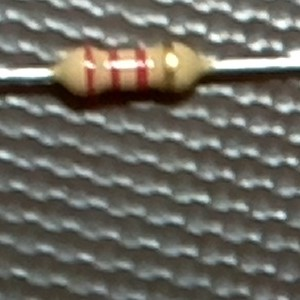gold_band: (160, 40, 178, 95)
red_band: (81, 43, 99, 99), (106, 46, 125, 94), (133, 45, 152, 93)
